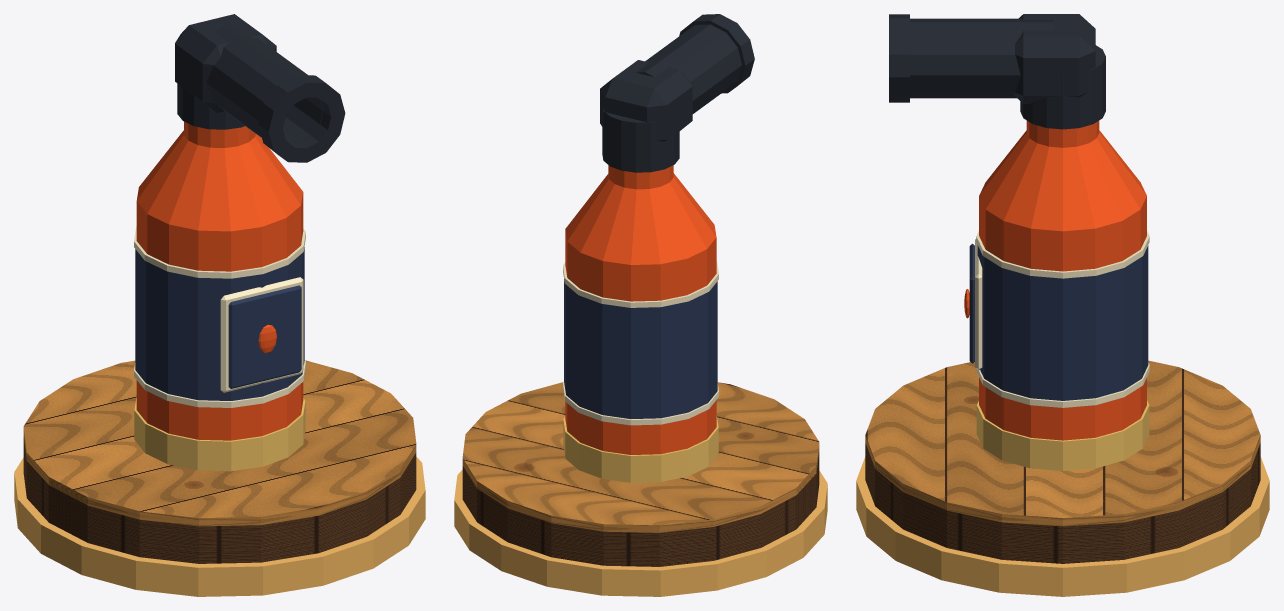
File: HotSauce.glb
3 renders of one model, left to right at view 1: azimuth 30°, elevation 25°; view 2: azimuth 150°, elevation 25°; view 3: azimuth 270°, elevation 25°, orthographic. The views are drawn at different scales.
Visible parts, largest first — view 1: HotSauce, pedestal, rim; view 2: HotSauce, pedestal, rim; view 3: HotSauce, pedestal, rim.
Part boxes in pixels (bbox=[...]): HotSauce: bbox=[134, 14, 345, 471]; pedestal: bbox=[23, 360, 416, 563]; rim: bbox=[14, 457, 425, 596]; HotSauce: bbox=[563, 14, 754, 482]; pedestal: bbox=[462, 382, 819, 566]; rim: bbox=[454, 469, 827, 596]; HotSauce: bbox=[889, 14, 1149, 470]; pedestal: bbox=[865, 360, 1260, 563]; rim: bbox=[856, 457, 1269, 596].
Size of the model in its own units: 0.9 by 1.18 by 0.9.
Materials: 9 (2 with a texture image).
